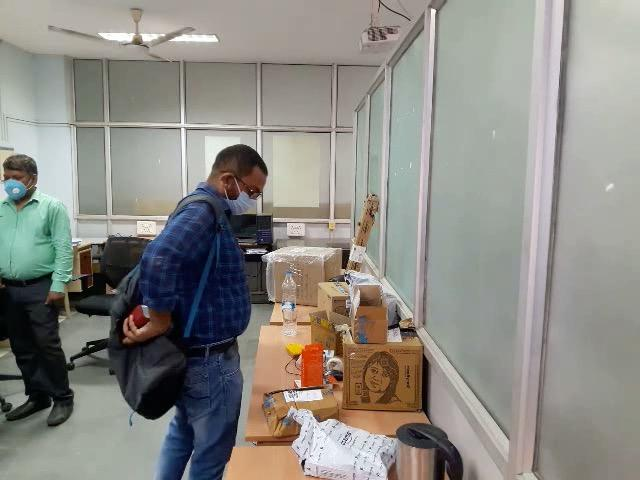shoplifting: (70, 252, 226, 471)
